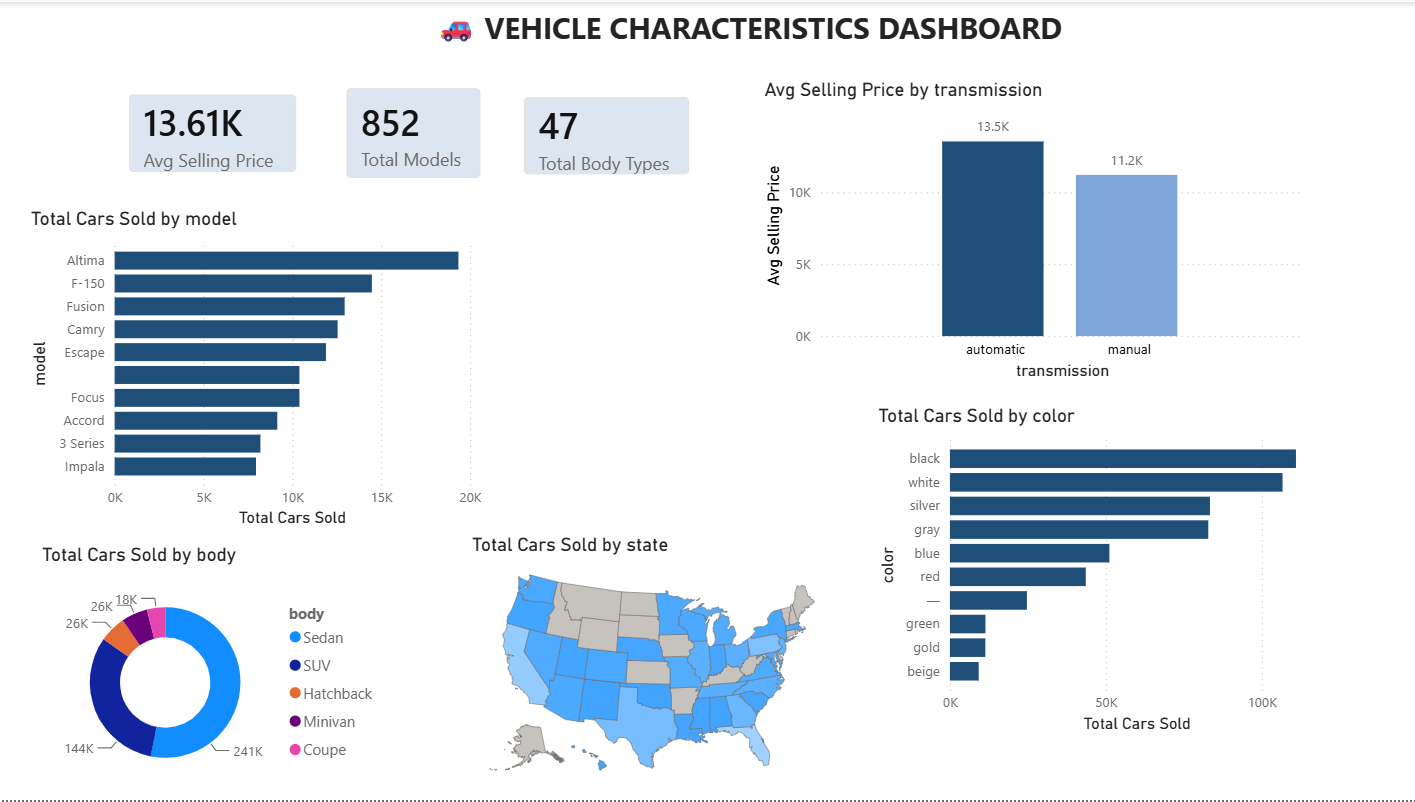

The dashboard page shown, as its layout file describes it:
{"tool":"powerbi","page":{"name":"Page 2","canvas":[1280,720],"ordinal":1},"visuals":[{"type":"cardVisual","fields":{"Data":["car_prices.Avg Selling Price"]},"box":[99.8,67,185.3,104.1],"z":0},{"type":"barChart","fields":{"Category":["car_prices.model"],"Y":["car_prices.Total Cars Sold"]},"box":[24.2,185.3,416.2,293.6],"z":1000},{"type":"donutChart","fields":{"Category":["car_prices.body"],"Y":["car_prices.Total Cars Sold"]},"box":[34.2,487.5,316.4,232.3],"z":2000},{"type":"clusteredColumnChart","fields":{"Category":["car_prices.transmission"],"Y":["car_prices.Avg Selling Price"]},"box":[685.6,68.4,496,276.5],"z":3000},{"type":"barChart","fields":{"Category":["car_prices.color"],"Y":["car_prices.Total Cars Sold"]},"box":[788.2,363.5,426.2,300.8],"z":4000},{"type":"shapeMap","fields":{"Category":["car_prices.state"],"Value":["car_prices.Total Cars Sold"]},"box":[421.9,478.9,335,232.3],"z":5000},{"type":"textbox","box":[388.9,0,640.8,46.5],"z":6000},{"type":"cardVisual","fields":{"Data":["car_prices.Total Models"]},"box":[296.5,61.3,155.4,115.5],"z":7000},{"type":"cardVisual","fields":{"Data":["car_prices.Total Body Types"]},"box":[456.1,68.4,183.9,104.1],"z":8000}]}

Visuals, with their boxes in screenshot pixels (x1, y1, x2, y2), scaled from the page's 1280x720 canvas onto the 1415x802 screenshot:
cardVisual - car_prices.Avg Selling Price: bbox(110, 75, 315, 191)
barChart - car_prices.model x car_prices.Total Cars Sold: bbox(27, 206, 487, 533)
donutChart - car_prices.body x car_prices.Total Cars Sold: bbox(38, 543, 388, 801)
clusteredColumnChart - car_prices.transmission x car_prices.Avg Selling Price: bbox(758, 76, 1306, 384)
barChart - car_prices.color x car_prices.Total Cars Sold: bbox(871, 405, 1342, 740)
shapeMap - car_prices.state x car_prices.Total Cars Sold: bbox(466, 533, 837, 792)
textbox: bbox(430, 0, 1138, 52)
cardVisual - car_prices.Total Models: bbox(328, 68, 500, 197)
cardVisual - car_prices.Total Body Types: bbox(504, 76, 708, 192)
